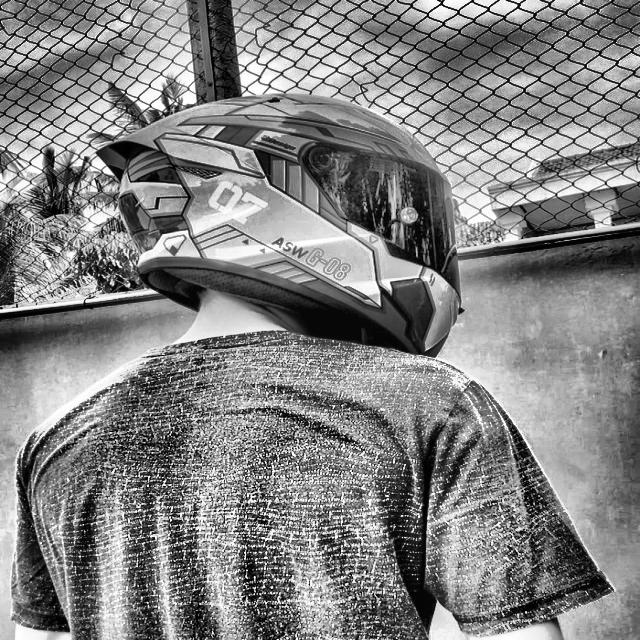Helmet: (70, 88, 507, 364)
